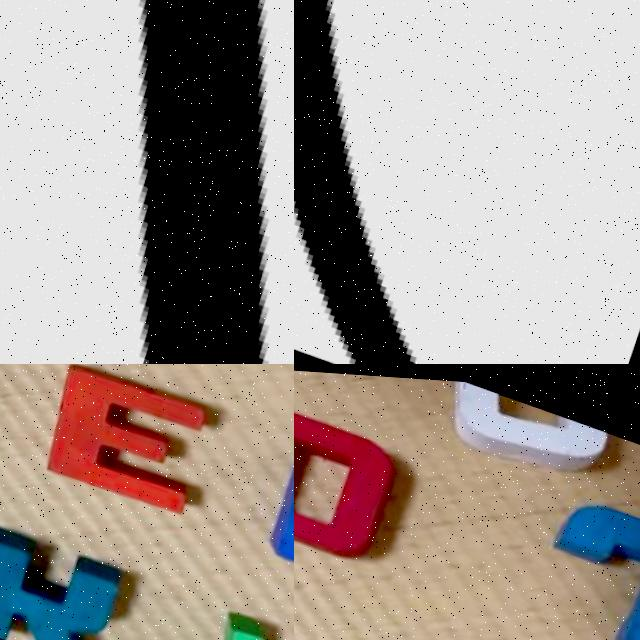7: (294, 0, 607, 364)
E: (34, 364, 229, 516)
J: (544, 491, 640, 640)
K: (0, 523, 138, 640)
L: (0, 0, 294, 364)
O: (294, 402, 406, 563)
Y: (176, 597, 294, 640)
